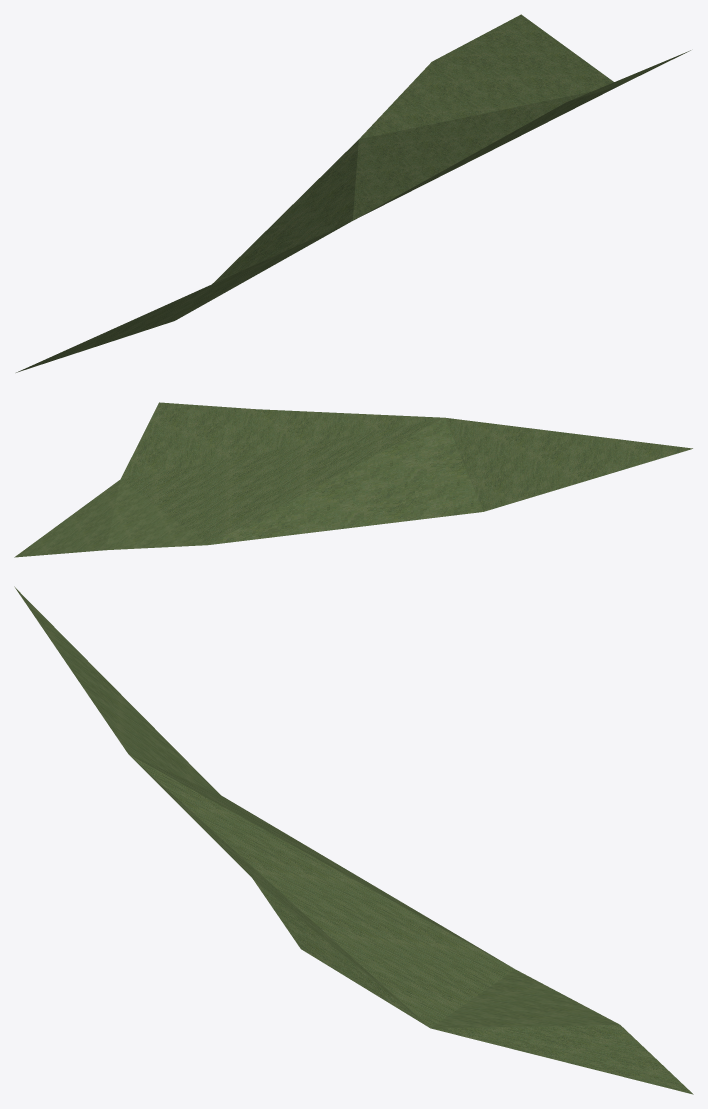
Rendered from LODa_carisle_mid_landmass_00_06.fbx.
3 renders of one model, top to bottom at view 1: azimuth 30°, elevation 25°; view 2: azimuth 150°, elevation 25°; view 3: azimuth 270°, elevation 25°, orthographic. The views are drawn at different scales.
Parts seen in each view (by area): view 1: LODa_carisle_mid_landmass_00_06; view 2: LODa_carisle_mid_landmass_00_06; view 3: LODa_carisle_mid_landmass_00_06.
Part boxes in pixels (box(x1,y1,x2,y2)): LODa_carisle_mid_landmass_00_06: box(16, 14, 690, 372); LODa_carisle_mid_landmass_00_06: box(14, 402, 692, 557); LODa_carisle_mid_landmass_00_06: box(14, 586, 693, 1094).
Size of the model in its own units: 48.97 by 36.6 by 7.73.
Materials: 1 (1 with a texture image).
